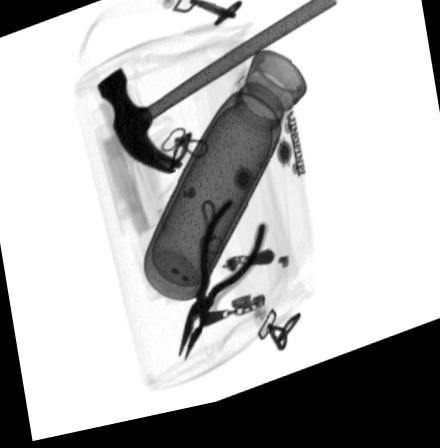Hammer: (95, 0, 339, 181)
Pliers: (179, 206, 269, 366)
